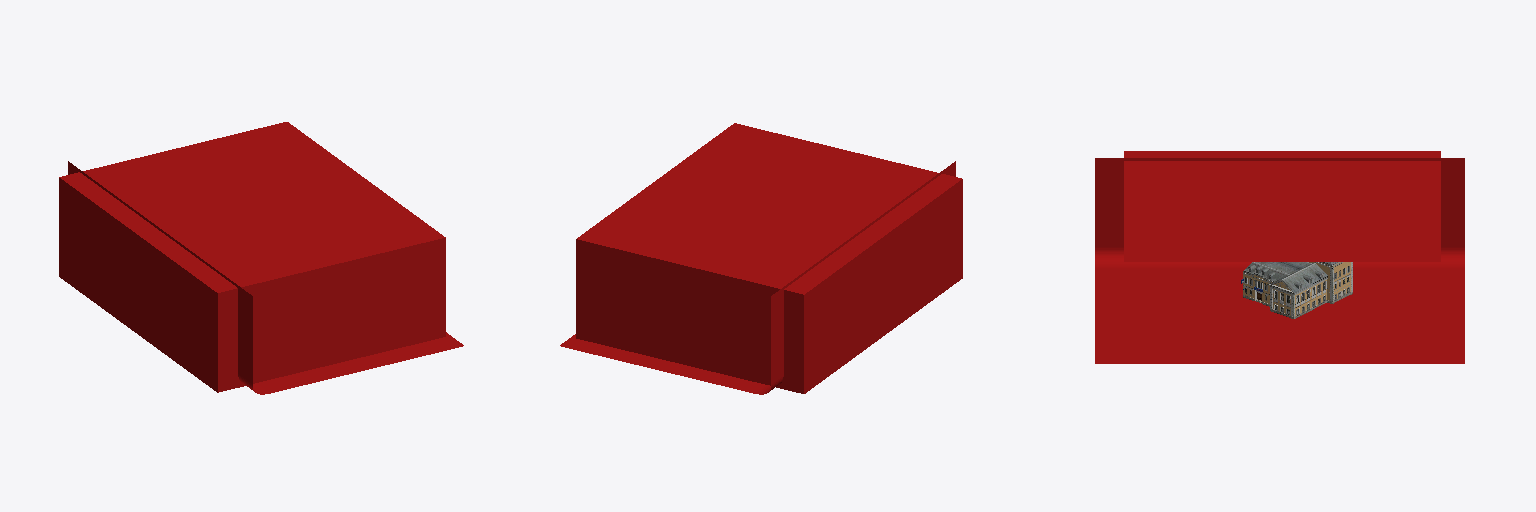
3 renders of one model, left to right at view 1: azimuth 30°, elevation 25°; view 2: azimuth 150°, elevation 25°; view 3: azimuth 270°, elevation 25°, orthographic.
Parts seen in each view (by area): view 1: Studio; view 2: Studio; view 3: Studio, domik.
Boxes of the visible parts, <box> form: Studio: <box>59,122,463,394</box>; Studio: <box>560,123,962,394</box>; Studio: <box>1095,151,1464,363</box>; domik: <box>1241,262,1352,318</box>.
Size of the model in its own units: 7910 by 3313 by 10858.
Materials: 3 (2 with a texture image).